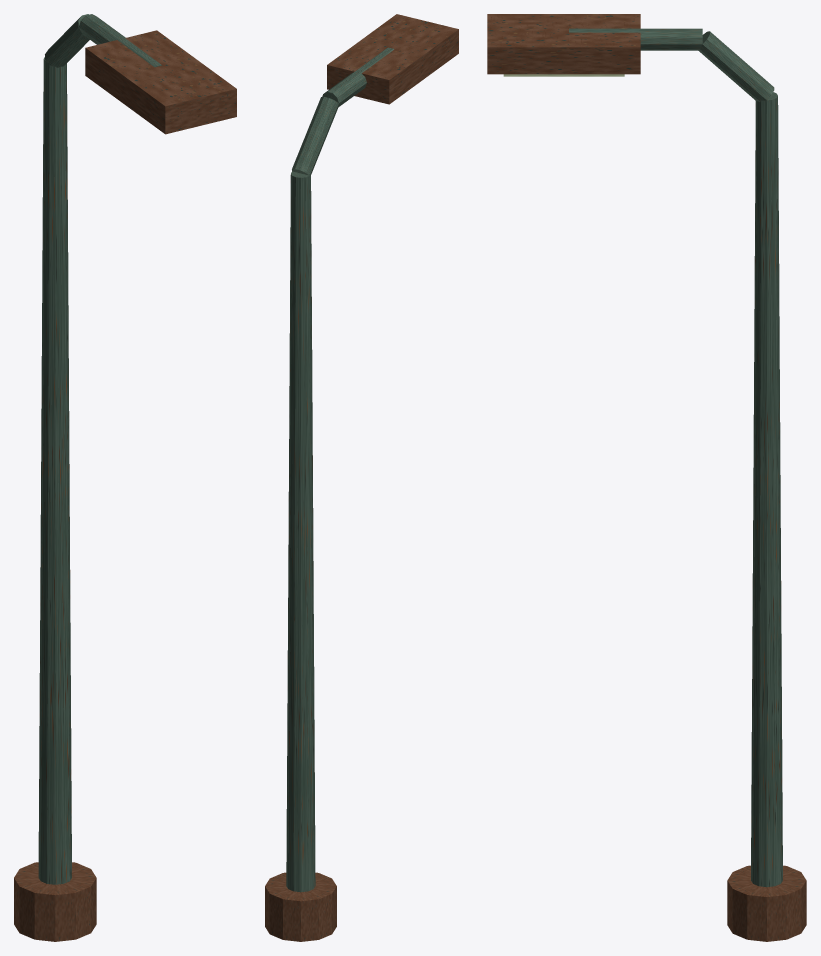
The model's file is StreetLamp.obj.
3 views of the same model, side by side, from view 1: azimuth 30°, elevation 25°; view 2: azimuth 150°, elevation 25°; view 3: azimuth 270°, elevation 25° (orthographic). The views are drawn at different scales.
Visible parts, largest first — view 1: StreetLamp; view 2: StreetLamp; view 3: StreetLamp.
Part boxes in pixels (<box>): StreetLamp: <box>14,14,236,941</box>; StreetLamp: <box>265,14,458,941</box>; StreetLamp: <box>487,14,806,941</box>.
Bounding box in the file's own units: 0.32 × 3.99 × 1.29.
Materials: 3 (3 with a texture image).
